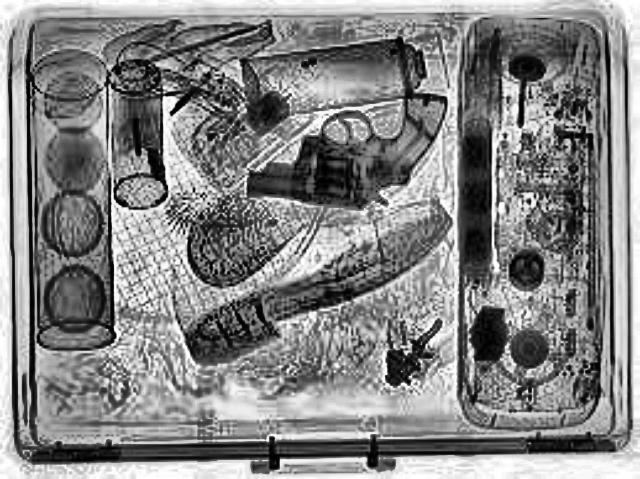Gun: (242, 87, 446, 206)
